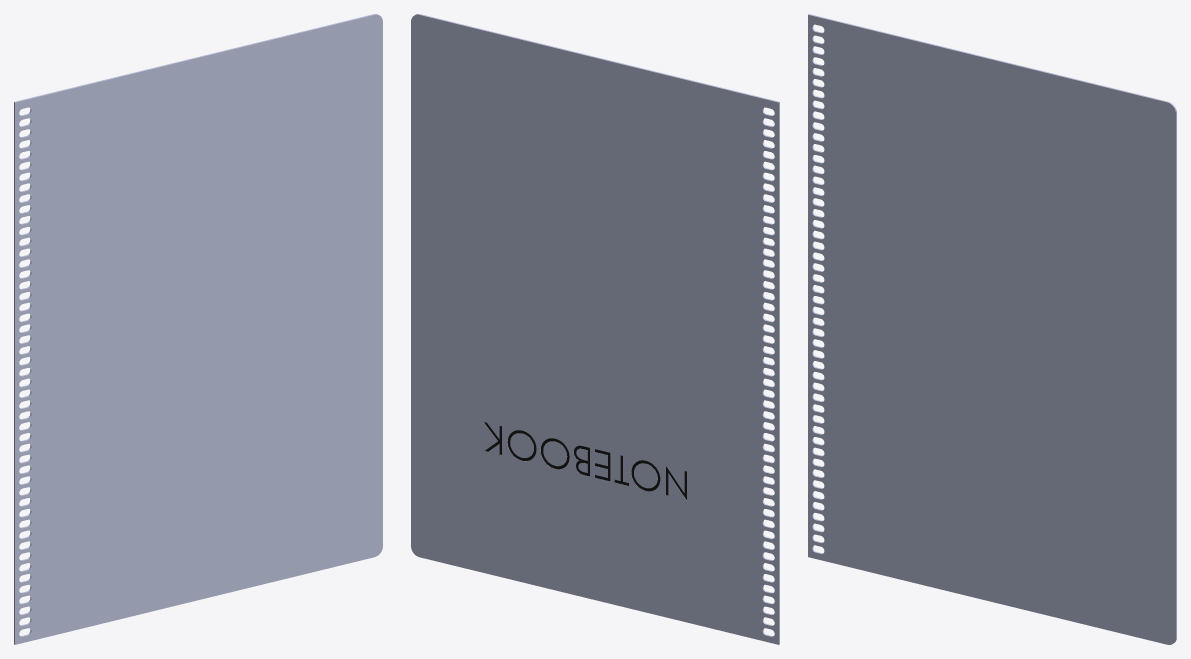
The model's file is 笔记本.fbx.
The picture shows the model from 3 angles, left to right: view 1: azimuth 30°, elevation 25°; view 2: azimuth 150°, elevation 25°; view 3: azimuth 330°, elevation 25°; orthographic projection.
Parts seen in each view (by area): view 1: Cut-Extrude2; view 2: Cut-Extrude2 (×2); view 3: Cut-Extrude2.
Boxes of the visible parts, bbox=[...] form: Cut-Extrude2: bbox=[14, 14, 382, 644]; Cut-Extrude2 (×2): bbox=[411, 14, 779, 644]; Cut-Extrude2: bbox=[808, 14, 1176, 644].
Size of the model in its own units: 213 by 1 by 300.
